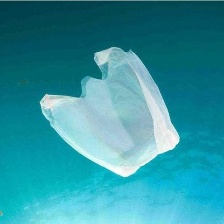plastic_bag: (36, 42, 182, 181)
